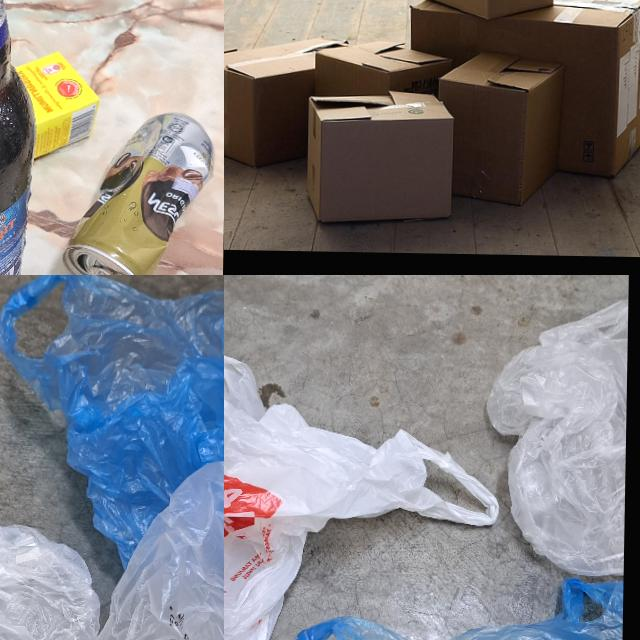caixinha: (11, 49, 100, 159)
lata: (61, 110, 212, 275)
papelão: (406, 0, 640, 180), (434, 51, 566, 209), (304, 90, 454, 224), (224, 33, 352, 171), (314, 38, 451, 98)
sacola plástica: (224, 331, 494, 640), (0, 275, 224, 580), (490, 286, 628, 586), (26, 458, 224, 640), (281, 573, 622, 640), (0, 424, 102, 640)
